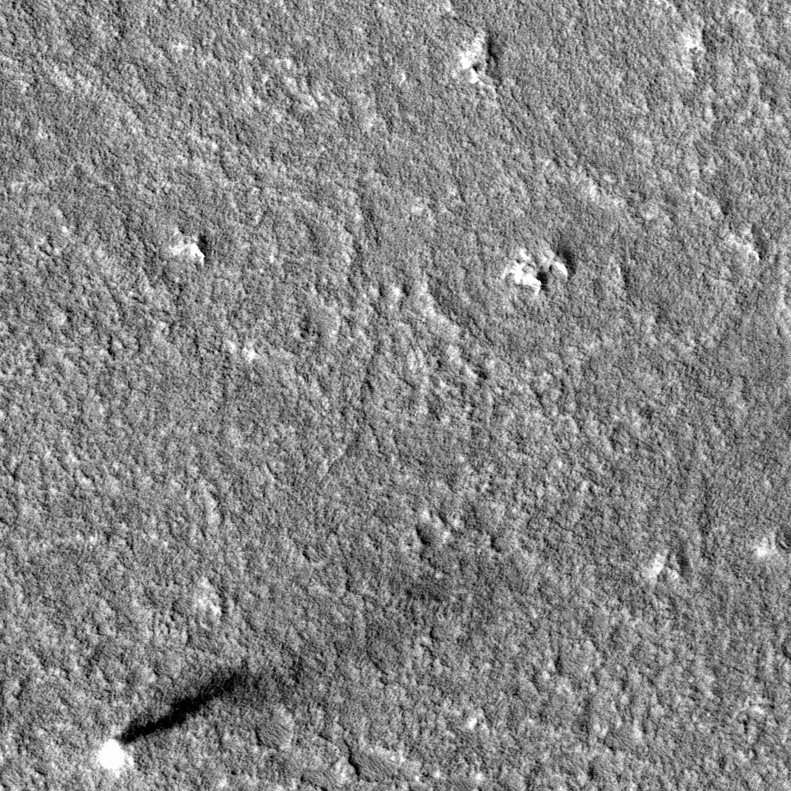dust_devil: (95, 651, 307, 779)
